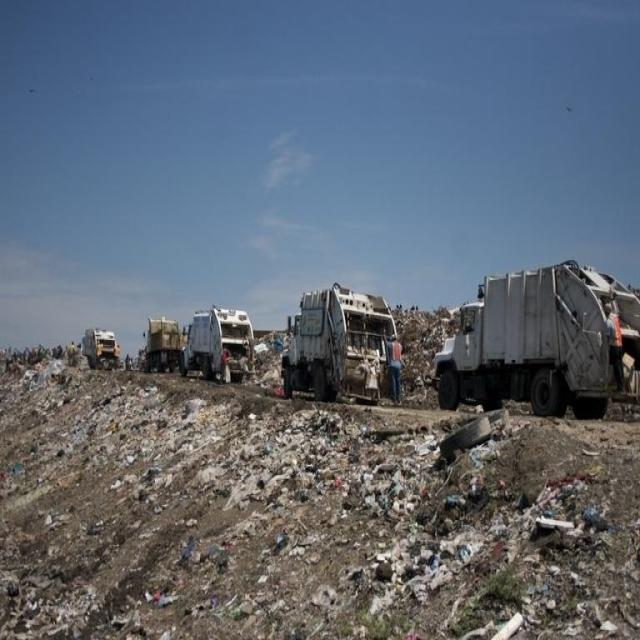Metal: (57, 258, 635, 405)
